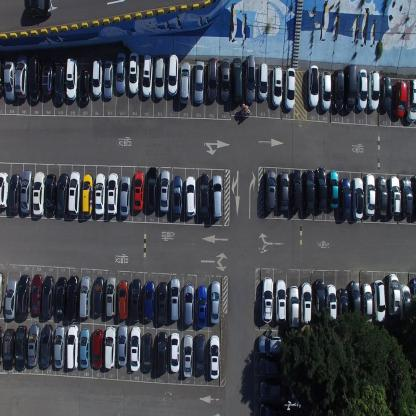car: (16, 274, 31, 320), (387, 272, 401, 320), (260, 276, 274, 323), (14, 325, 28, 371), (66, 274, 79, 322), (28, 54, 41, 102), (40, 323, 53, 369), (324, 283, 337, 329), (141, 53, 154, 98), (348, 279, 361, 324), (274, 278, 287, 323), (15, 53, 28, 98), (244, 55, 256, 103), (344, 64, 356, 112), (20, 170, 33, 214), (360, 282, 373, 326), (198, 172, 210, 219), (146, 166, 158, 213), (302, 167, 314, 214), (388, 174, 402, 214), (56, 173, 69, 216), (44, 174, 57, 217), (5, 277, 18, 320), (373, 279, 386, 322), (119, 175, 132, 218), (106, 172, 118, 218), (32, 171, 44, 217), (231, 58, 243, 104), (284, 66, 296, 112), (315, 166, 327, 212), (259, 378, 284, 400), (8, 172, 21, 214), (42, 57, 56, 96), (367, 69, 380, 111), (393, 80, 407, 119), (159, 168, 171, 213), (81, 173, 93, 218), (68, 171, 80, 216), (79, 274, 91, 319), (42, 275, 54, 320), (54, 324, 66, 369), (28, 322, 40, 367), (206, 57, 218, 102), (211, 174, 223, 218), (183, 283, 195, 327), (194, 332, 206, 376), (182, 334, 194, 378), (185, 174, 197, 218), (130, 278, 142, 322), (104, 326, 116, 370), (66, 57, 78, 101), (332, 68, 344, 112), (300, 282, 312, 326), (287, 284, 299, 328), (351, 176, 363, 220), (23, 0, 52, 18), (92, 275, 104, 318), (3, 327, 15, 370), (54, 63, 66, 106), (115, 52, 127, 95), (167, 53, 179, 96), (179, 61, 191, 104), (290, 168, 302, 211), (364, 172, 376, 215), (209, 334, 220, 380), (55, 275, 66, 321), (67, 323, 78, 369), (314, 278, 325, 324), (196, 285, 208, 327), (132, 170, 144, 212), (264, 169, 276, 211), (271, 64, 283, 106), (375, 176, 387, 218), (258, 355, 283, 375), (258, 334, 283, 354), (172, 174, 183, 219), (130, 326, 141, 371), (219, 57, 230, 102), (91, 57, 103, 98), (319, 71, 331, 112), (400, 176, 412, 217), (105, 274, 116, 318), (154, 56, 165, 100), (194, 60, 205, 104), (278, 169, 289, 213), (308, 64, 319, 108), (405, 79, 416, 123), (336, 287, 348, 327), (400, 283, 412, 323), (128, 52, 139, 95), (144, 280, 155, 322), (31, 274, 42, 316), (356, 68, 367, 110), (157, 330, 167, 376), (79, 69, 91, 107), (92, 329, 103, 370), (210, 279, 220, 324), (170, 276, 180, 321), (158, 281, 168, 326), (95, 172, 105, 217), (117, 322, 127, 367), (380, 75, 392, 112), (143, 331, 153, 375), (80, 326, 90, 370), (257, 62, 268, 102), (328, 169, 339, 209), (340, 178, 350, 221), (118, 279, 128, 321), (5, 60, 15, 102), (170, 332, 180, 373), (103, 62, 113, 102), (258, 402, 286, 416), (408, 278, 416, 322), (0, 171, 9, 209), (0, 271, 6, 316), (0, 58, 5, 98), (0, 325, 4, 367), (413, 174, 416, 218)
